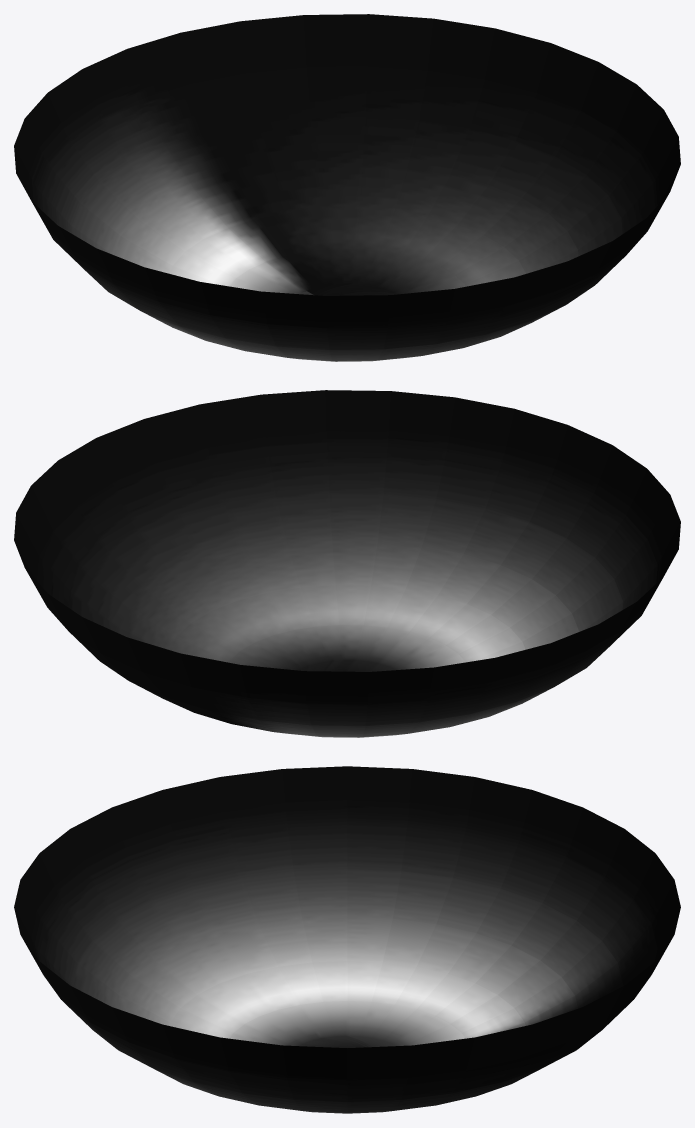
The model's file is 0296_groundsmoke2.glb.
3 views of the same model, one above another, from view 1: azimuth 30°, elevation 25°; view 2: azimuth 150°, elevation 25°; view 3: azimuth 270°, elevation 25° (orthographic).
Bounding box in the file's own units: 2.2 × 0.576 × 2.2.
Materials: 1 (1 with a texture image).
